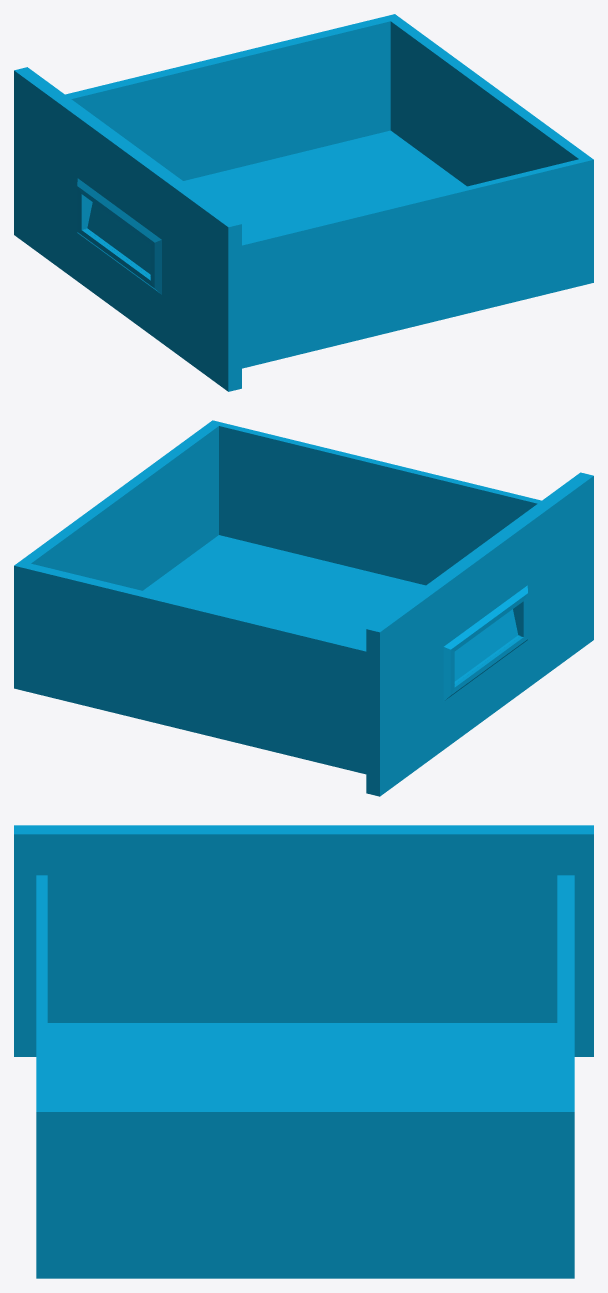
The model's file is Office_Furniture_02_Drawer_01_Lod.fbx.
3 views of the same model, one above another, from view 1: azimuth 30°, elevation 25°; view 2: azimuth 150°, elevation 25°; view 3: azimuth 270°, elevation 25° (orthographic). The views are drawn at different scales.
Parts seen in each view (by area): view 1: Office_Furniture_02_Drawer_01_Lod; view 2: Office_Furniture_02_Drawer_01_Lod; view 3: Office_Furniture_02_Drawer_01_Lod.
Part boxes in pixels (x1,y1,x2,y2): Office_Furniture_02_Drawer_01_Lod: [14, 14, 593, 391]; Office_Furniture_02_Drawer_01_Lod: [14, 420, 593, 796]; Office_Furniture_02_Drawer_01_Lod: [14, 825, 593, 1278].
Bounding box in the file's own units: 27.21 × 11.33 × 26.77.
